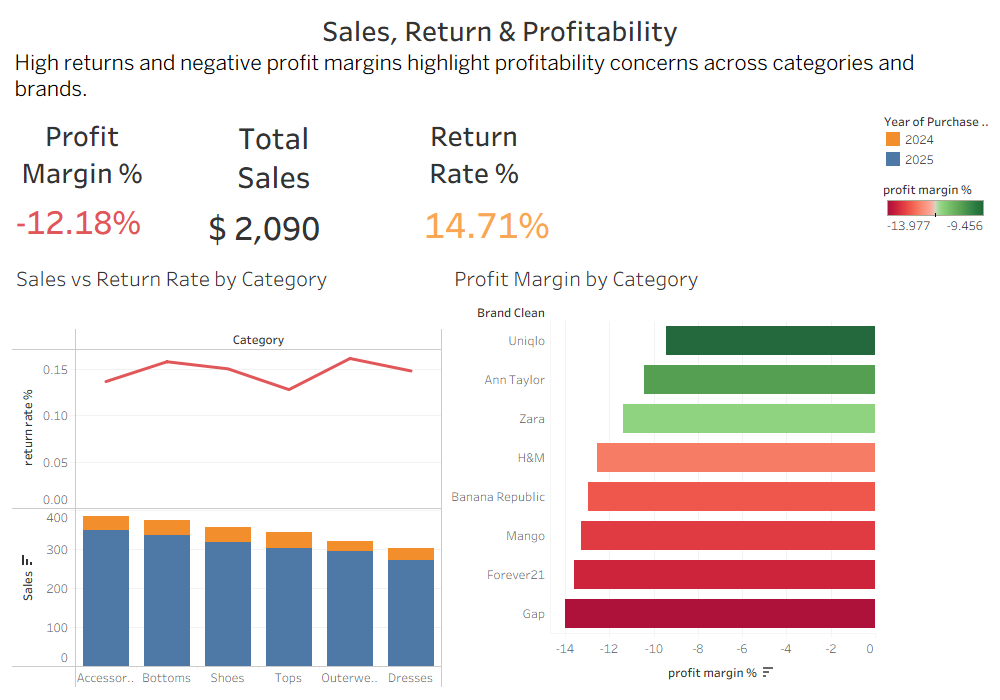

What the dashboard file says about the page in this screenshot:
{"tool":"tableau","page":{"name":"Dashboard 5","canvas":[1000,700],"ordinal":4},"visuals":[{"type":"title","box":[8,8,984,99]},{"type":"worksheet","title":"Sheet 13","mark":"Automatic","box":[8,107,192,147]},{"type":"worksheet","title":"Sheet 12","mark":"Automatic","box":[200,107,190,147]},{"type":"worksheet","title":"Sheet 14","mark":"Automatic","box":[390,107,188,147]},{"type":"legend","title":"Sheet 15","param":"[federated.1qwkjmf10en2zl1bg35vl1v1s3n4].[yr:purchase_date:ok]","box":[879,107,113,66]},{"type":"legend","title":"Sheet 16","param":"[federated.1qwkjmf10en2zl1bg35vl1v1s3n4].[usr:Calculation_546624457479131138:qk]","box":[879,173,113,65]},{"type":"worksheet","title":"Sheet 15","mark":"Automatic","rows":["Calculation_546624457481318405","Calculation_443604615936045065"],"cols":["category"],"box":[8,254,438,438]},{"type":"worksheet","title":"Sheet 16","mark":"Automatic","rows":["brand_clean"],"cols":["Calculation_546624457479131138"],"box":[446,254,433,438]}]}

Visuals, with their boxes in screenshot pixels (x1, y1, x2, y2), scaled from the page's 1000x700 canvas onto the 1000x700 screenshot:
title: (8,8,992,107)
"Sheet 13" worksheet: (8,107,200,254)
"Sheet 12" worksheet: (200,107,390,254)
"Sheet 14" worksheet: (390,107,578,254)
"Sheet 15" legend: (879,107,992,173)
"Sheet 16" legend: (879,173,992,238)
"Sheet 15" worksheet: (8,254,446,692)
"Sheet 16" worksheet: (446,254,879,692)
